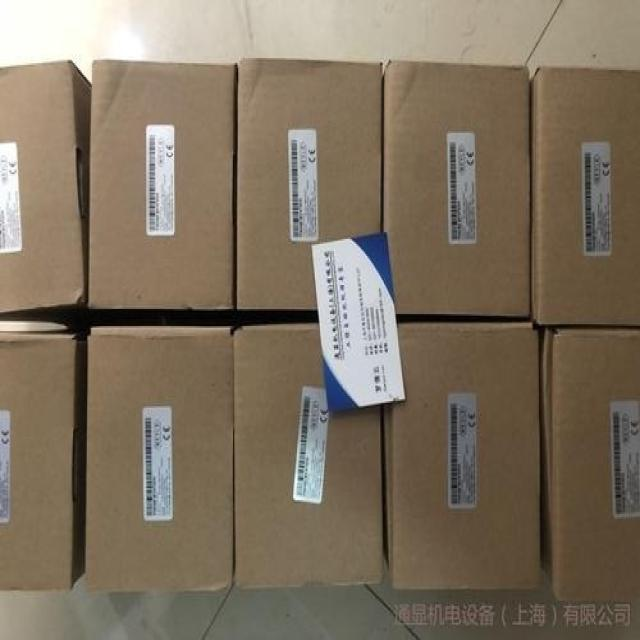box: (382, 321, 542, 588), (233, 321, 387, 590), (82, 326, 232, 592), (381, 64, 533, 314), (88, 59, 238, 309), (235, 60, 382, 309), (530, 68, 639, 329), (539, 329, 637, 602), (0, 312, 90, 589), (0, 62, 91, 316)
